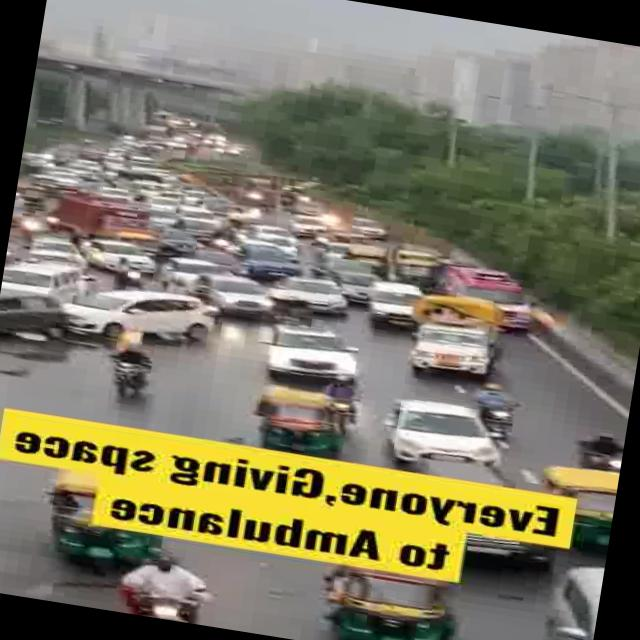ambulance: (434, 260, 542, 329)
